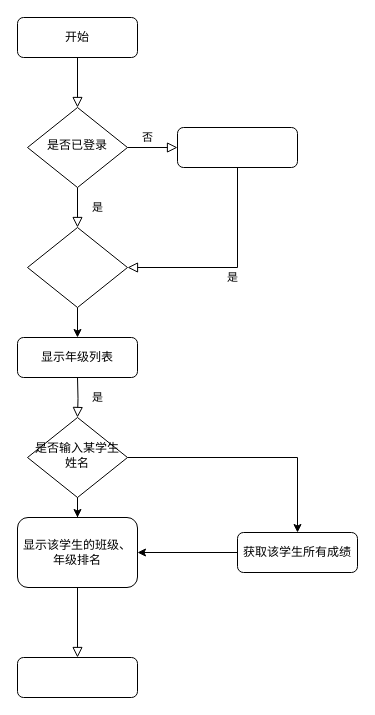
Image size: 375x715. Some labels were removed from this diagram. The centre of each missing label's shape, as x and y in pixels:
"登录" goes at point 237,147.
"结束" goes at point 77,677.
"首页" goes at point 77,267.
